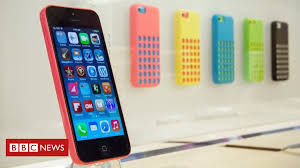iphone: (36, 1, 139, 167)
iphone5: (33, 1, 136, 167)
